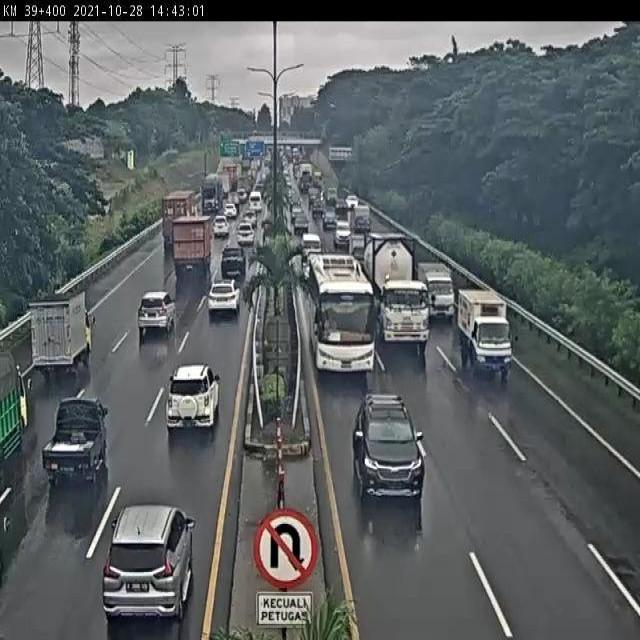big truck: (171, 213, 214, 276), (162, 188, 202, 253)
bus-l-: (309, 259, 376, 376)
car: (102, 502, 199, 622), (352, 392, 428, 512), (166, 362, 222, 438), (137, 289, 177, 336), (207, 276, 243, 316), (300, 232, 323, 264), (222, 241, 245, 272), (215, 215, 230, 237), (239, 222, 255, 242)
small truck: (27, 286, 97, 382), (42, 396, 108, 491)
truck-s-: (458, 288, 519, 381), (417, 260, 456, 328)
truck-xl-: (365, 233, 430, 348)
